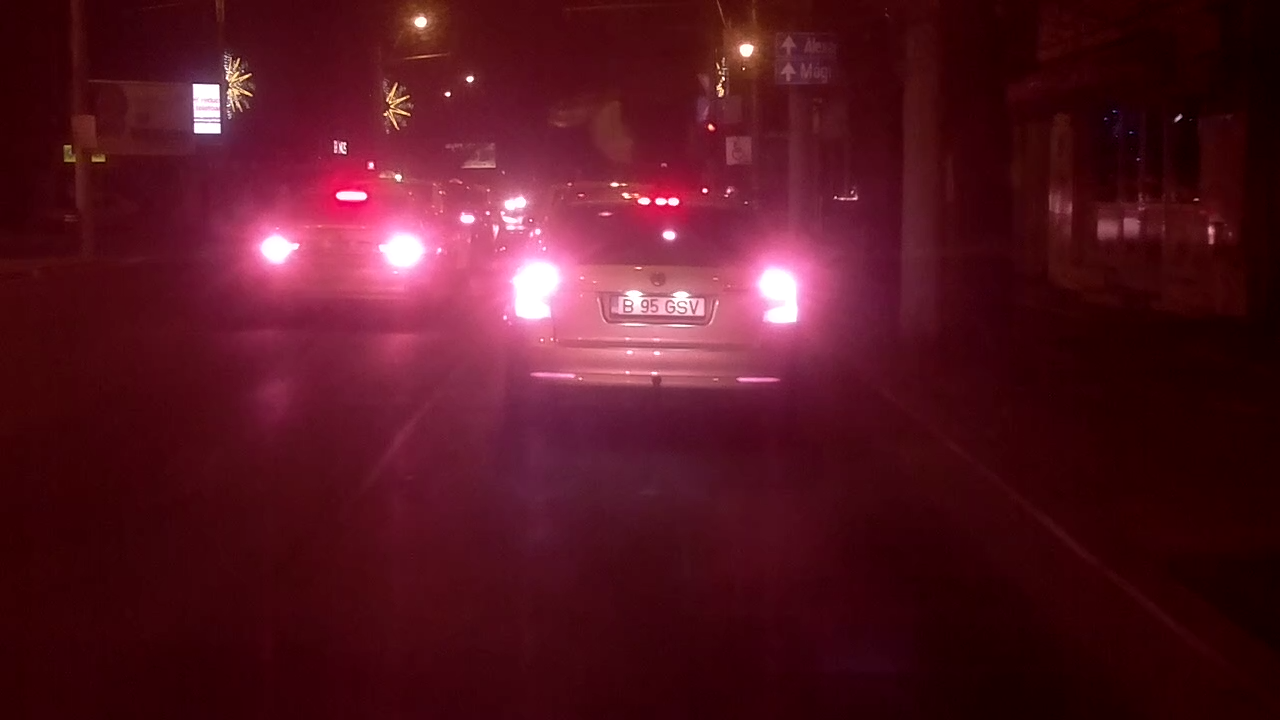license-plate: (607, 291, 711, 321)
